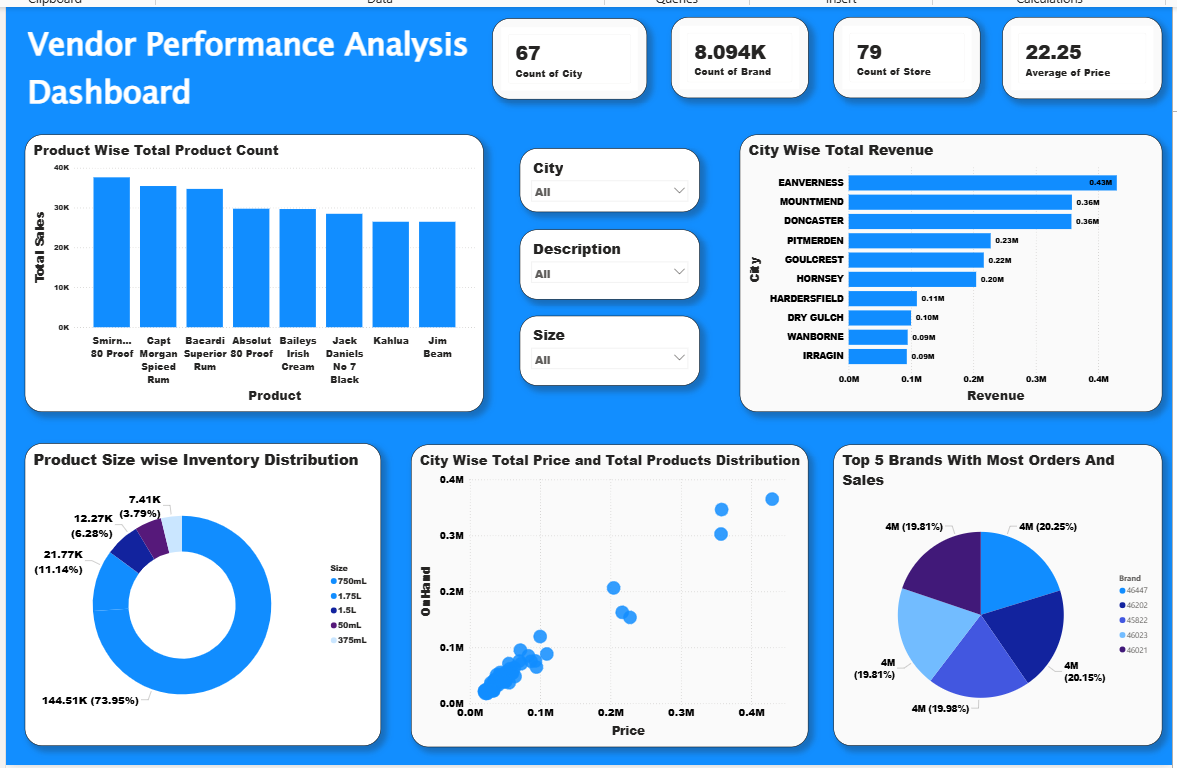

What the dashboard file says about the page in this screenshot:
{"tool":"powerbi","page":{"name":"Page 1","canvas":[2000,1300],"ordinal":0},"visuals":[{"type":"pieChart","title":"Top 5 Brands With Most Orders And Sales","fields":{"Y":["Sum(begin_inventory.Brand)"],"Category":["begin_inventory.Brand"]},"box":[1419.4,750.4,563.9,516.7],"z":0},{"type":"clusteredBarChart","title":"City Wise Total Revenue","fields":{"Category":["begin_inventory.City"],"Y":["Sum(begin_inventory.Price)"]},"box":[1258.6,218.7,724.7,476],"z":1000},{"type":"cardVisual","fields":{"Data":["Avg(begin_inventory.Price)"]},"box":[1709.7,18.1,274.2,141.1],"z":2000},{"type":"scatterChart","title":"City Wise Total Price and Total Products Distribution","fields":{"Category":["begin_inventory.City"],"X":["Sum(begin_inventory.Price)"],"Y":["Sum(begin_inventory.onHand)"]},"box":[694.7,750.4,681.8,518.9],"z":3000},{"type":"cardVisual","fields":{"Data":["Count(begin_inventory.Store)"]},"box":[1419.4,18.1,252,139.1],"z":4000},{"type":"cardVisual","fields":{"Data":["Count(begin_inventory.Brand)"]},"box":[1141.1,18.1,235.9,139.1],"z":5000},{"type":"cardVisual","fields":{"Data":["Count(begin_inventory.City)"]},"box":[834.1,19.3,265.9,139.4],"z":6000},{"type":"slicer","fields":{"Values":["begin_inventory.City"]},"box":[881.2,242.3,308.7,109.3],"z":7000},{"type":"clusteredColumnChart","title":"Product Wise Total Product Count","fields":{"Category":["begin_inventory.Description"],"Y":["Sum(begin_inventory.onHand)"]},"box":[32.2,218.7,786.9,476],"z":8000},{"type":"slicer","fields":{"Values":["begin_inventory.Description"]},"box":[881.2,381.6,308.7,120.1],"z":10000},{"type":"slicer","fields":{"Values":["begin_inventory.Size"]},"box":[881.2,529.6,308.7,120.1],"z":11000},{"type":"donutChart","title":"Product Size wise Inventory Distribution","fields":{"Category":["begin_inventory.Size"],"Y":["CountNonNull(begin_inventory.Size)"]},"box":[32.2,748.3,611.1,518.9],"z":12000},{"type":"textbox","box":[32.2,19.3,801.9,175.8],"z":13000}]}

Visuals, with their boxes in screenshot pixels (x1, y1, x2, y2):
"Top 5 Brands With Most Orders And Sales" pieChart: [left=830, top=442, right=1157, bottom=742]
"City Wise Total Revenue" clusteredBarChart: [left=737, top=133, right=1157, bottom=409]
cardVisual - Avg(begin_inventory.Price): [left=998, top=17, right=1158, bottom=99]
"City Wise Total Price and Total Products Distribution" scatterChart: [left=409, top=442, right=805, bottom=743]
cardVisual - Count(begin_inventory.Store): [left=830, top=17, right=976, bottom=97]
cardVisual - Count(begin_inventory.Brand): [left=668, top=17, right=805, bottom=97]
cardVisual - Count(begin_inventory.City): [left=490, top=17, right=645, bottom=98]
slicer - begin_inventory.City: [left=518, top=147, right=697, bottom=210]
"Product Wise Total Product Count" clusteredColumnChart: [left=25, top=133, right=482, bottom=409]
slicer - begin_inventory.Description: [left=518, top=228, right=697, bottom=297]
slicer - begin_inventory.Size: [left=518, top=313, right=697, bottom=383]
"Product Size wise Inventory Distribution" donutChart: [left=25, top=440, right=379, bottom=742]
textbox: [left=25, top=17, right=490, bottom=119]
